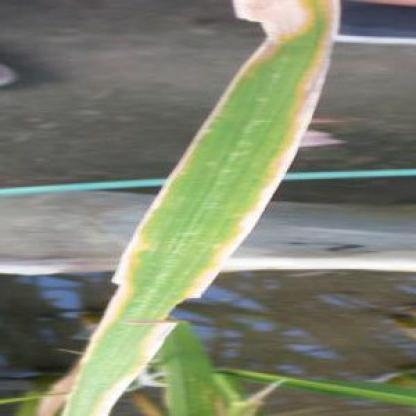Blight: (44, 1, 320, 416), (87, 1, 350, 416)
